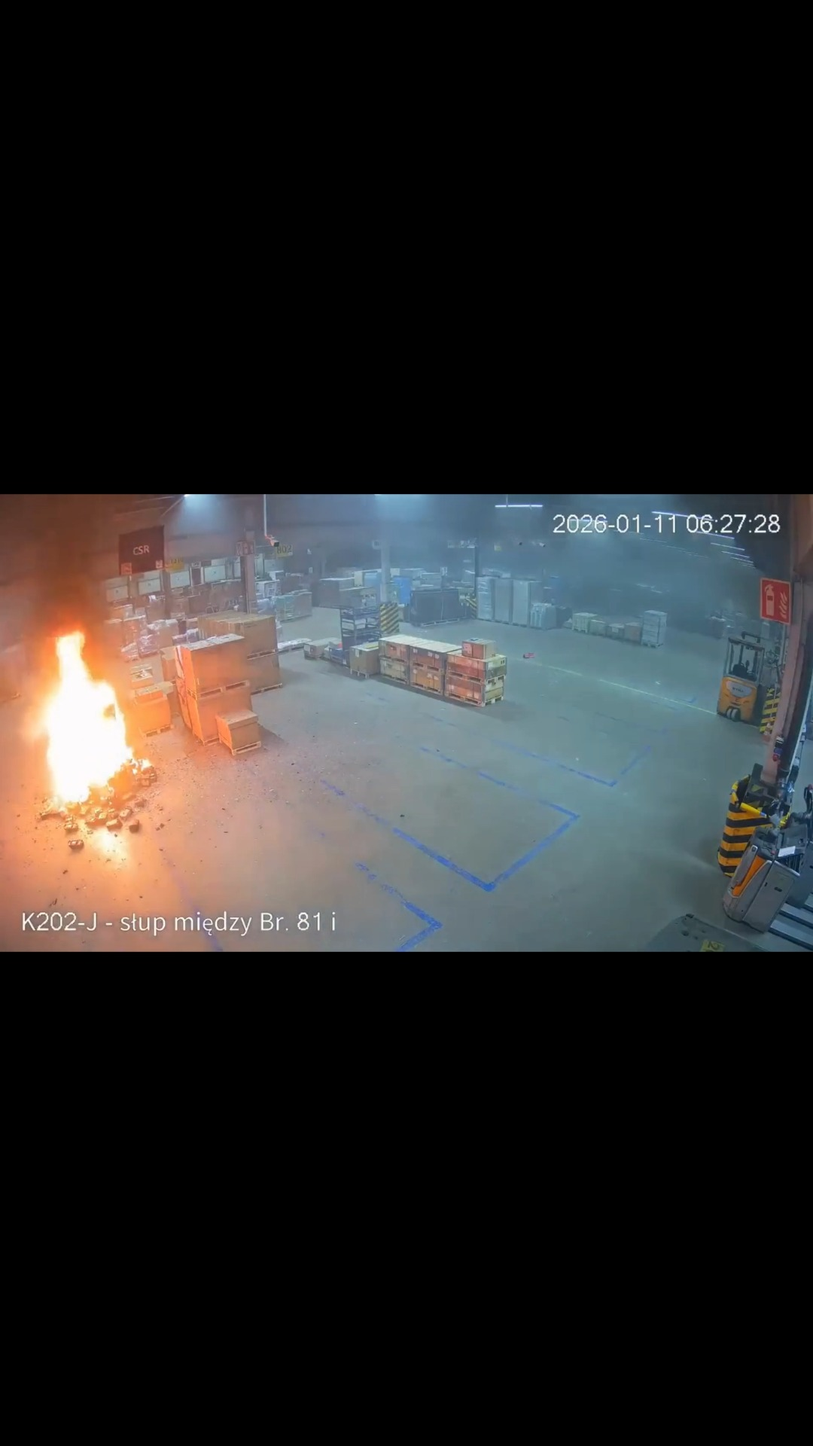fire: (29, 625, 145, 816)
smoke: (0, 495, 184, 670)
